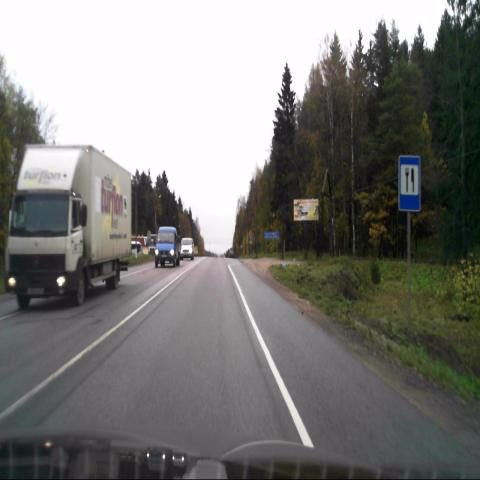7_7: (398, 156, 420, 213)
